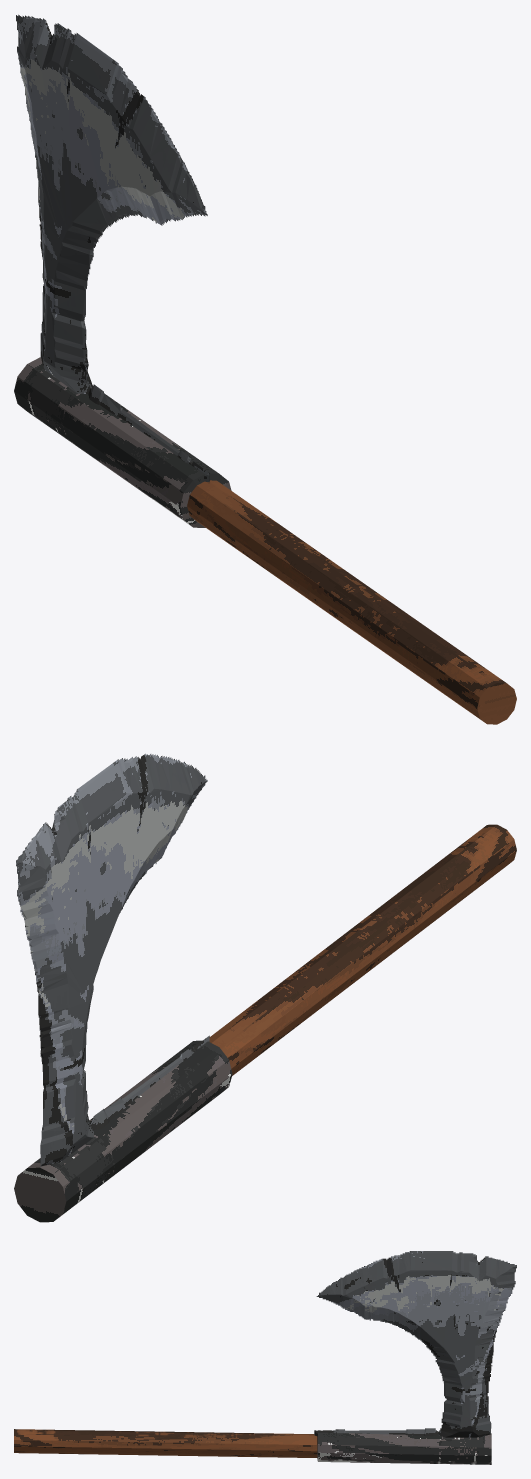
The model's file is battle-axe.glb.
The picture shows the model from 3 angles, top to bottom: view 1: azimuth 30°, elevation 25°; view 2: azimuth 150°, elevation 25°; view 3: azimuth 270°, elevation 25°; orthographic projection. The views are drawn at different scales.
Parts seen in each view (by area): view 1: blade, haft, socket; view 2: blade, haft, socket; view 3: blade, haft, socket.
Boxes of the visible parts, x1,y1,x2,y2 form: blade: [16, 14, 209, 482]; haft: [187, 480, 516, 724]; socket: [14, 357, 231, 527]; blade: [16, 753, 209, 1166]; haft: [209, 824, 516, 1075]; socket: [14, 1040, 232, 1222]; blade: [314, 1251, 516, 1437]; haft: [14, 1429, 317, 1457]; socket: [317, 1430, 491, 1464].
Bounding box in the file's own units: 0.05 × 0.3704 × 0.7953.
2 materials, 2 textured.
